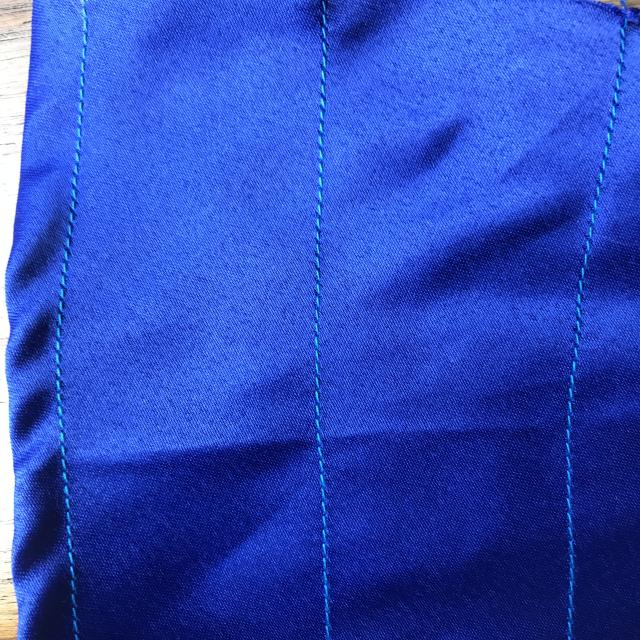good: (56, 127, 103, 226), (306, 179, 337, 313)
